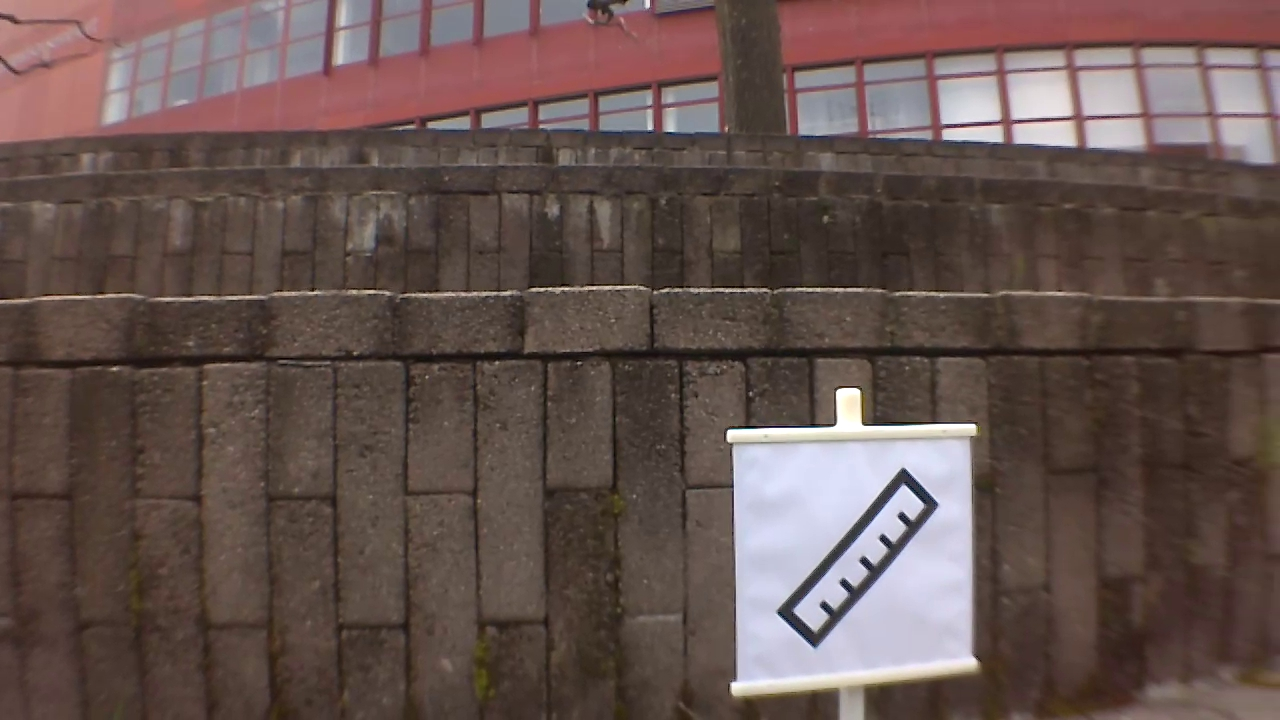ruler: (770, 458, 944, 652)
